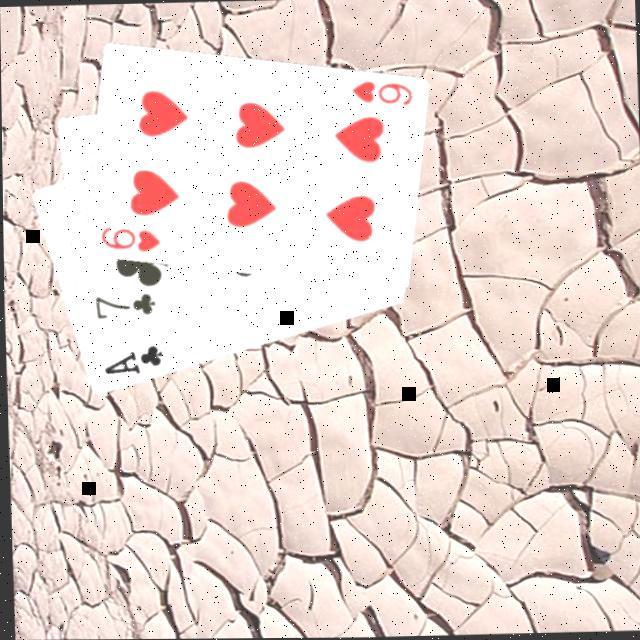6H: (94, 223, 161, 257), (346, 77, 413, 111)
7C: (88, 291, 156, 323)
AC: (96, 343, 162, 379)
